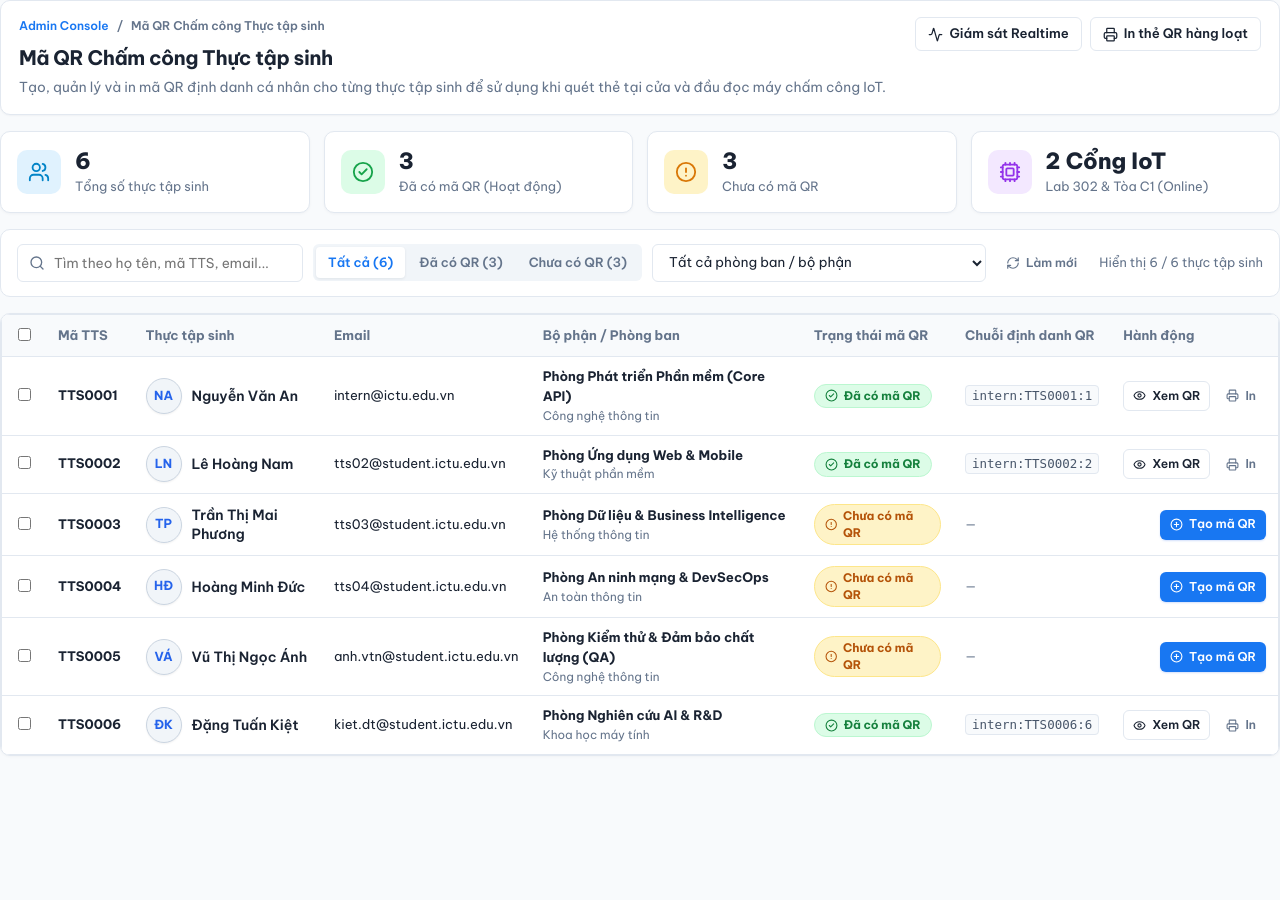
Test: AdminInternQrPage - Giao diện Quản lý Mã QR Chấm công Thực tập sinh › 4. Tìm kiếm thực tập sinh theo họ tên hoặc mã TTS
Expected: the text "TTS0001" is shown, [58,387,118,403]
In the search field with placeholder "Tìm theo họ tên, mã TTS, email...": (160,263) [17,244,303,282], type "Lê Hoàng Nam"
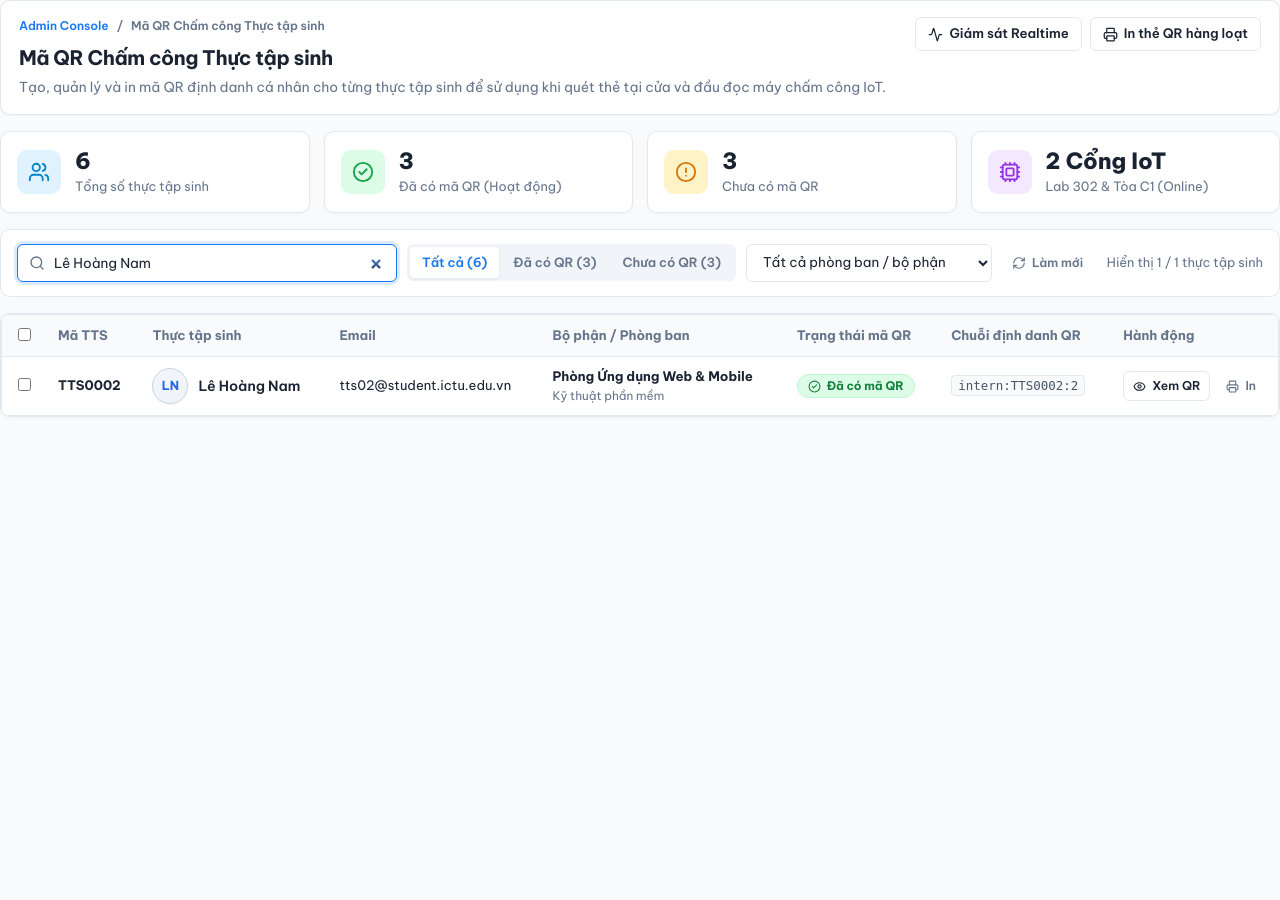
Expected: the text "Lê Hoàng Nam" is shown, [198,377,300,395]
Expected: the text "Nguyễn Văn An" is gone
Expected: the text "Trần Thị Mai Phương" is gone
